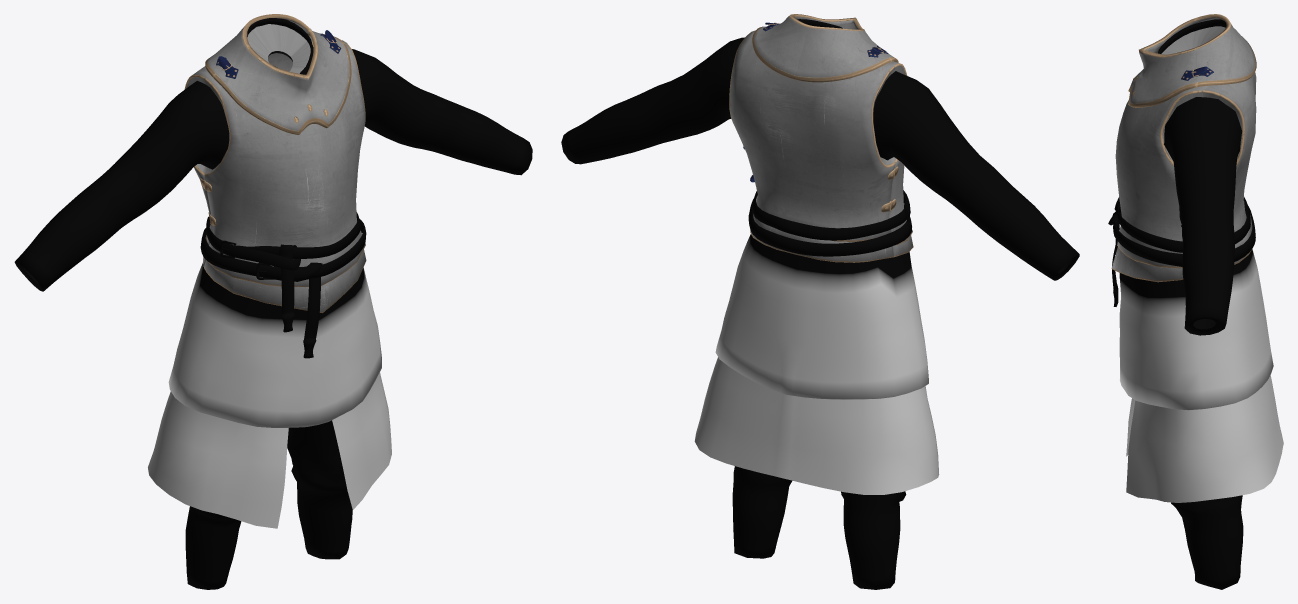
Rendered from swan_knight_armor_1b_t2.fbx.
3 views of the same model, side by side, from view 1: azimuth 30°, elevation 25°; view 2: azimuth 150°, elevation 25°; view 3: azimuth 270°, elevation 25° (orthographic). The views are drawn at different scales.
Visible parts, largest first — view 1: swan_knight_armor_1b_t2.0, swan_knight_armor_1b_t2.1; view 2: swan_knight_armor_1b_t2.0, swan_knight_armor_1b_t2.1; view 3: swan_knight_armor_1b_t2.0, swan_knight_armor_1b_t2.1.
Boxes of the visible parts, x1=… form: swan_knight_armor_1b_t2.0: x1=14, y1=18, x2=532, y2=589; swan_knight_armor_1b_t2.1: x1=184, y1=14, x2=366, y2=313; swan_knight_armor_1b_t2.0: x1=561, y1=19, x2=1079, y2=589; swan_knight_armor_1b_t2.1: x1=729, y1=14, x2=913, y2=262; swan_knight_armor_1b_t2.0: x1=1108, y1=19, x2=1283, y2=589; swan_knight_armor_1b_t2.1: x1=1111, y1=14, x2=1256, y2=282.
Bounding box in the file's own units: 1.34 × 0.4125 × 1.38.
